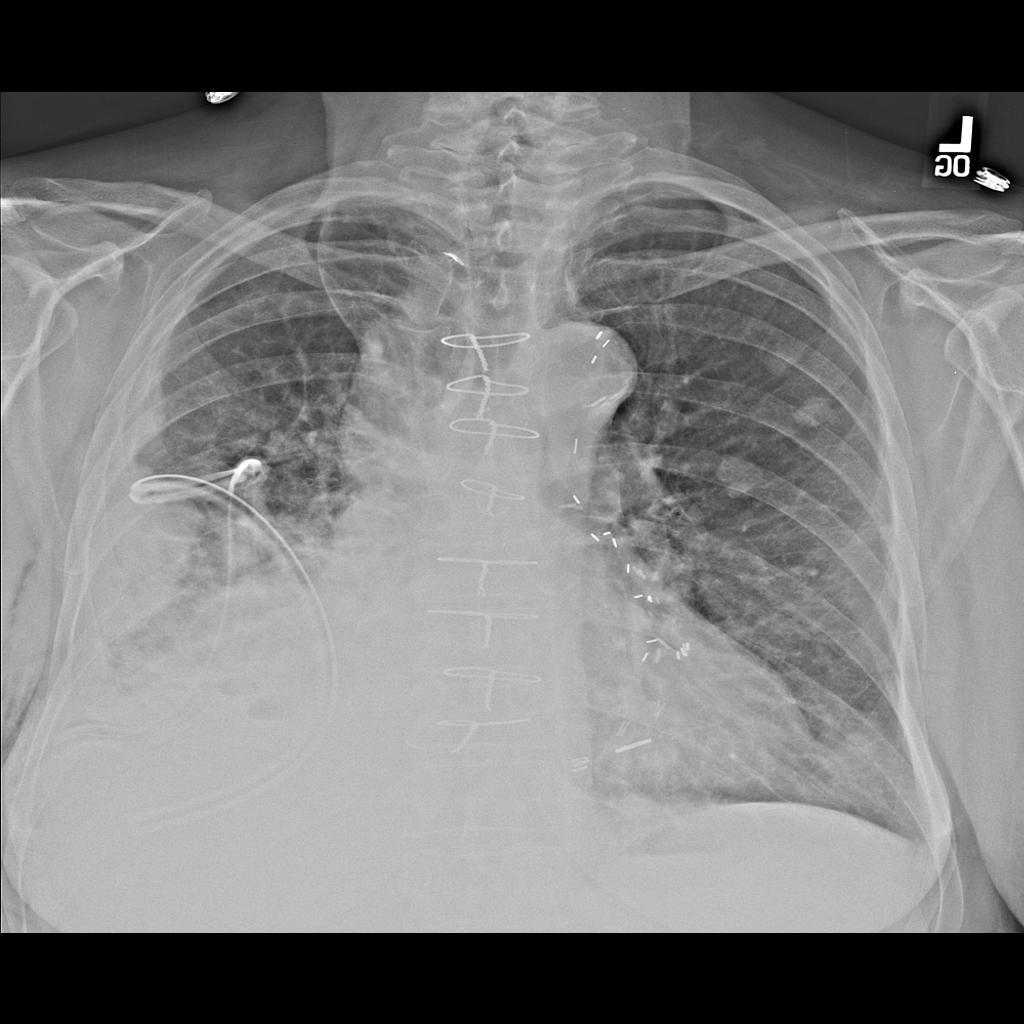Nodule: (717, 455, 764, 497), (795, 396, 839, 436), (765, 346, 806, 382)
